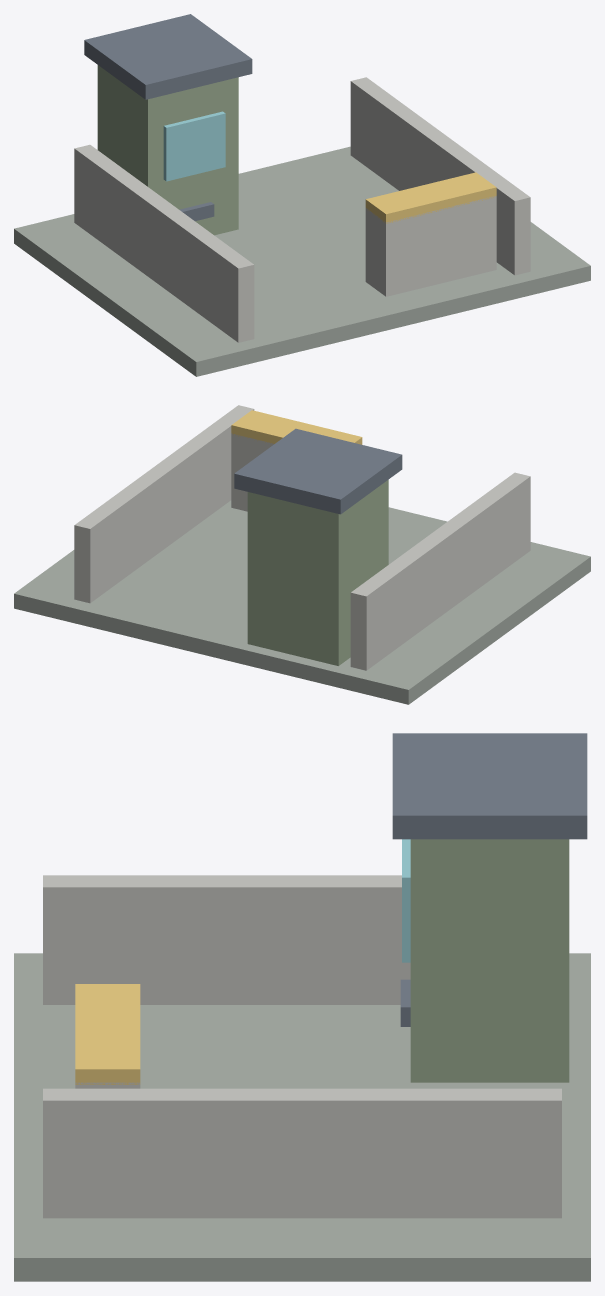
The model's file is tactical-checkpoint.glb.
3 views of the same model, one above another, from view 1: azimuth 30°, elevation 25°; view 2: azimuth 150°, elevation 25°; view 3: azimuth 270°, elevation 25° (orthographic). The views are drawn at different scales.
Parts seen in each view (by area): view 1: Checkpoint tactique; view 2: Checkpoint tactique; view 3: Checkpoint tactique.
Boxes of the visible parts, bbox=[...] form: Checkpoint tactique: bbox=[14, 14, 590, 376]; Checkpoint tactique: bbox=[14, 405, 590, 704]; Checkpoint tactique: bbox=[14, 733, 590, 1281].
Bounding box in the file's own units: 5 × 2.27 × 4.
